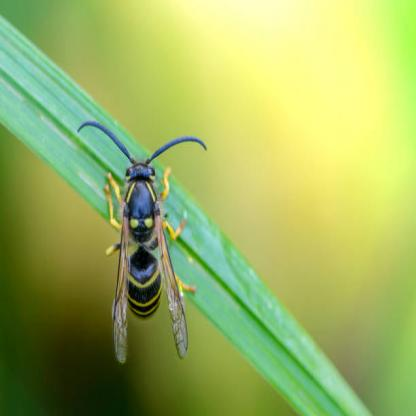sawfly: (76, 118, 212, 369)
